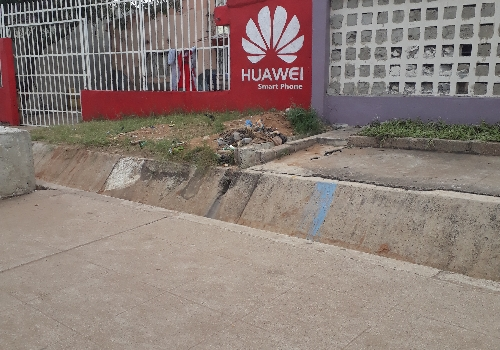trash: (206, 115, 290, 177)
